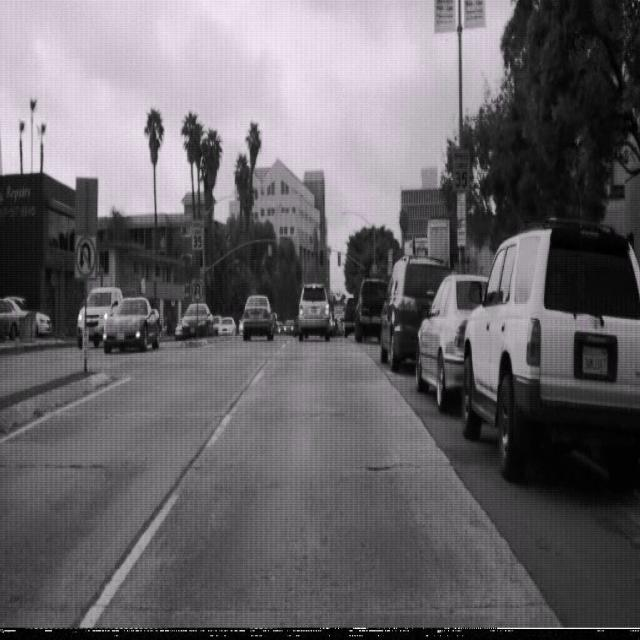speedLimit35: (451, 145, 471, 191), (190, 217, 204, 250)
